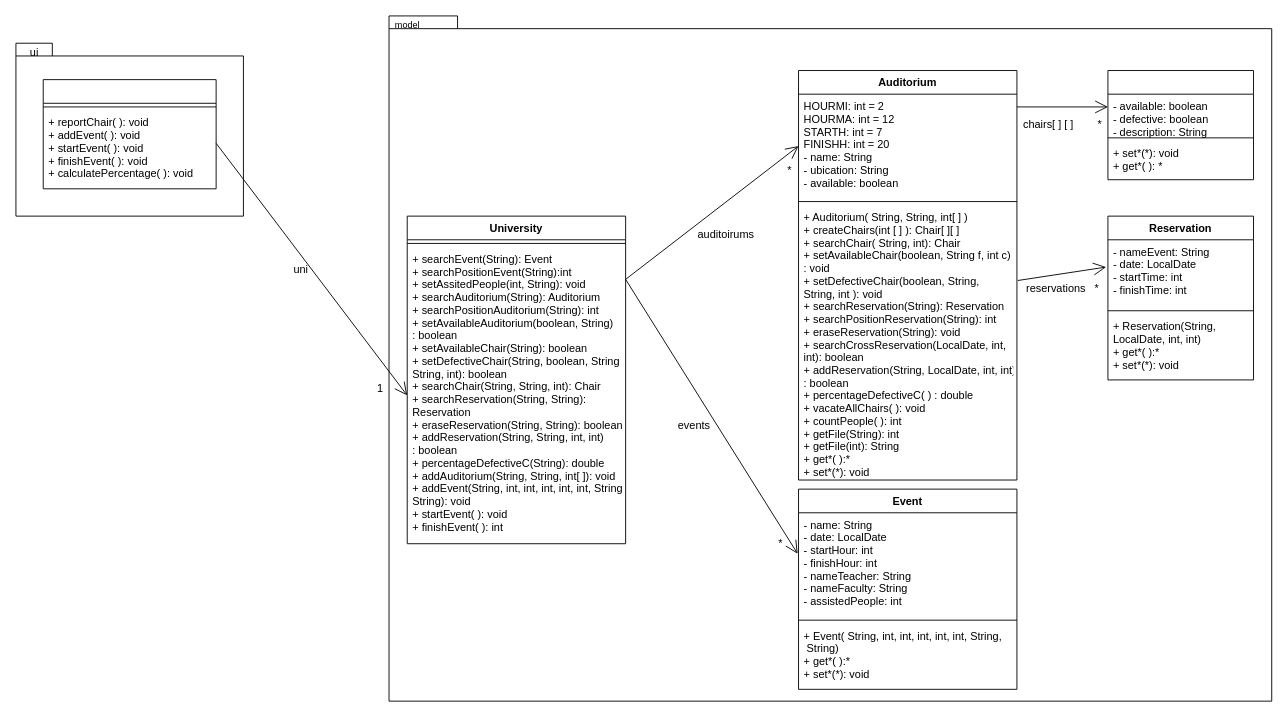
Some shapes in this 1288 by 717 pixel diagram are drawn without their labels. Each missing label, with the box of its shape:
Chair: (1107, 70, 1254, 180)
Main: (42, 79, 216, 189)
